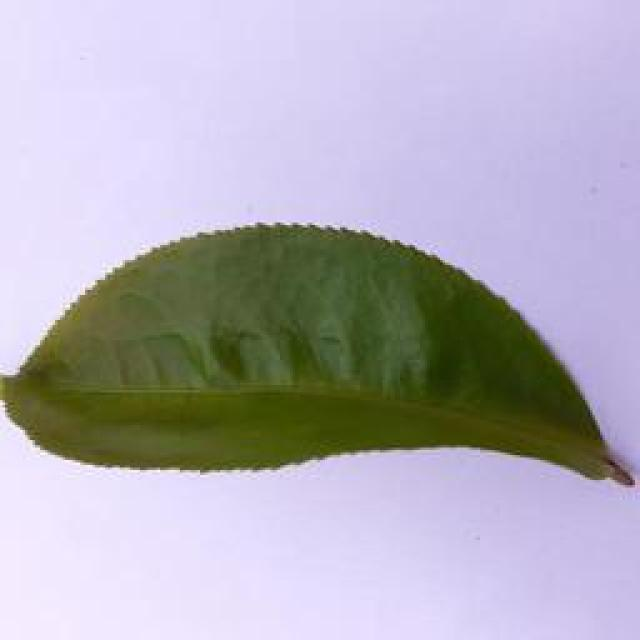Healthy: (0, 212, 640, 508)
